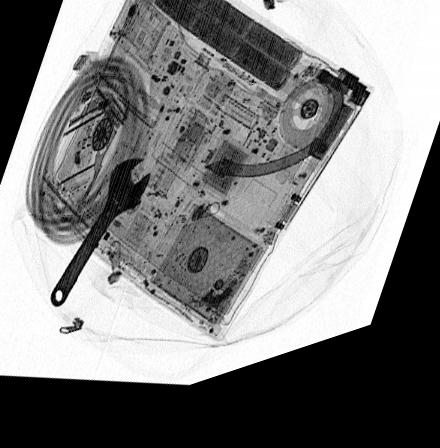Wrench: (48, 164, 151, 310)
